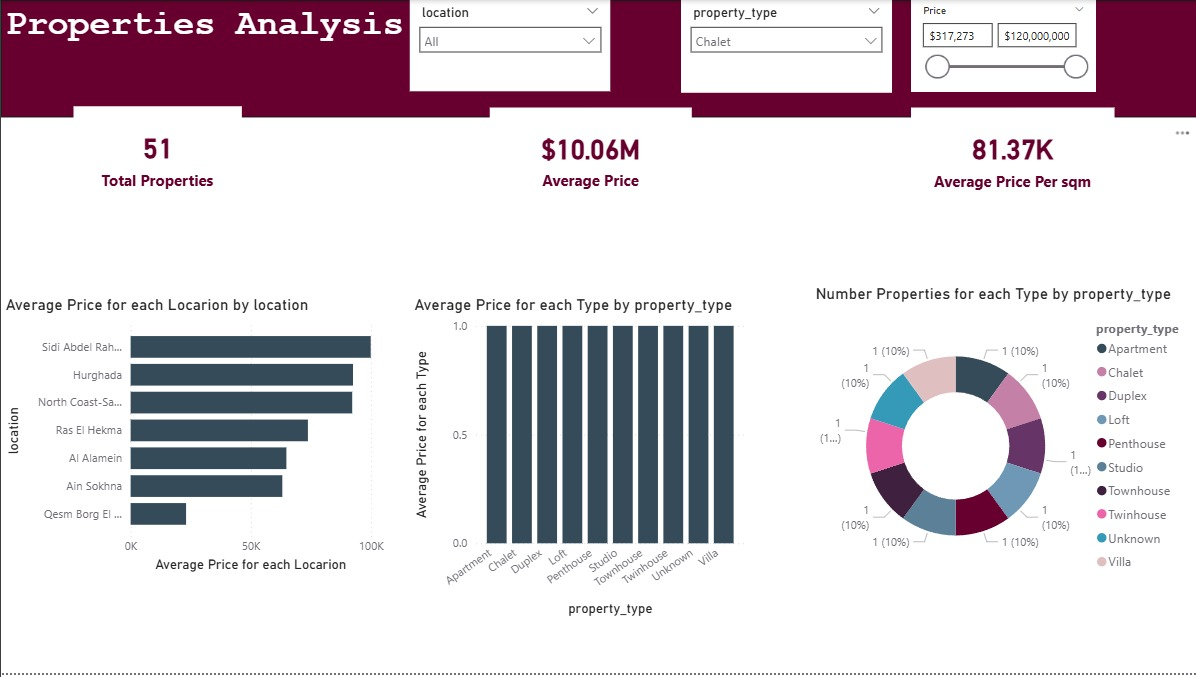

The page's visual inventory and layout, read from the dashboard file:
{"tool":"powerbi","page":{"name":"Page 1","canvas":[1280,720],"ordinal":0},"visuals":[{"type":"textbox","box":[0,0,1280.3,125.7],"z":0},{"type":"card","fields":{"Values":["Avg(gold_df.price_per_sqm)"]},"box":[972.9,115.1,217.6,108.8],"z":1000},{"type":"card","fields":{"Values":["Count(gold_df.title)"]},"box":[77.3,113.5,179.7,108.8],"z":2000},{"type":"card","fields":{"Values":["Avg(gold_df.price)"]},"box":[521.9,115.1,216,107.2],"z":3000},{"type":"slicer","title":"In-Store Vs Takeaway","fields":{"Values":["gold_location_summary.location"]},"box":[436.8,0,214.4,97.8],"z":7000},{"type":"slicer","fields":{"Values":["gold_df.property_type"]},"box":[726.9,0,225.5,99.3],"z":7001},{"type":"slicer","fields":{"Values":["gold_df.price"]},"box":[973.4,0,197.5,97.6],"z":7002},{"type":"clusteredBarChart","fields":{"Category":["gold_df.location"],"Y":["Avg(gold_df.price_per_sqm)"]},"box":[0,315.3,414.7,301.2],"z":7003},{"type":"donutChart","fields":{"Category":["gold_type_summary.property_type"],"Y":["CountNonNull(gold_type_summary.total_properties)"]},"box":[865.6,302.7,414.7,328],"z":7005},{"type":"columnChart","fields":{"Category":["gold_type_summary.property_type"],"Y":["CountNonNull(gold_type_summary.avg_price_per_type)"]},"box":[436.8,315.3,362.7,348.5],"z":7006}]}

Visuals, with their boxes in screenshot pixels (x1, y1, x2, y2), scaled from the page's 1280x720 canvas onto the 1196x677 screenshot:
textbox: (x1=0, y1=0, x2=1195, y2=118)
card - Avg(gold_df.price_per_sqm): (x1=909, y1=108, x2=1112, y2=211)
card - Count(gold_df.title): (x1=72, y1=107, x2=240, y2=209)
card - Avg(gold_df.price): (x1=488, y1=108, x2=689, y2=209)
"In-Store Vs Takeaway" slicer: (x1=408, y1=0, x2=608, y2=92)
slicer - gold_df.property_type: (x1=679, y1=0, x2=890, y2=93)
slicer - gold_df.price: (x1=910, y1=0, x2=1094, y2=92)
clusteredBarChart - gold_df.location x Avg(gold_df.price_per_sqm): (x1=0, y1=296, x2=387, y2=580)
donutChart - gold_type_summary.property_type x CountNonNull(gold_type_summary.total_properties): (x1=809, y1=285, x2=1195, y2=593)
columnChart - gold_type_summary.property_type x CountNonNull(gold_type_summary.avg_price_per_type): (x1=408, y1=296, x2=747, y2=624)
